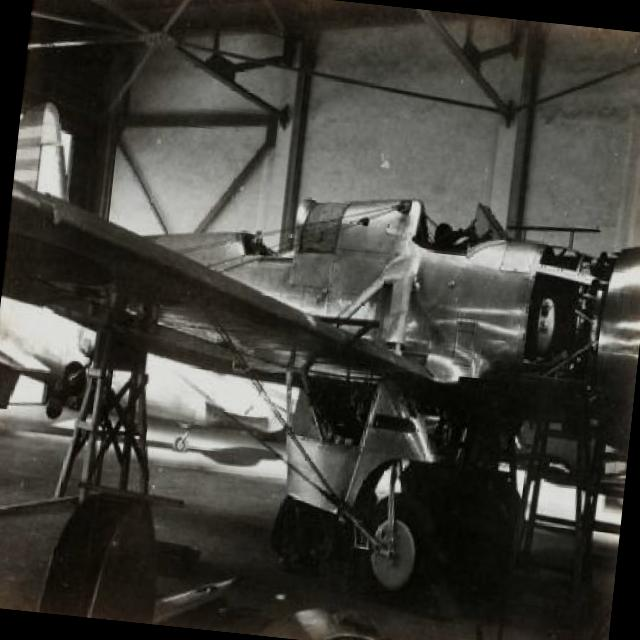Person: (432, 212, 496, 252)
